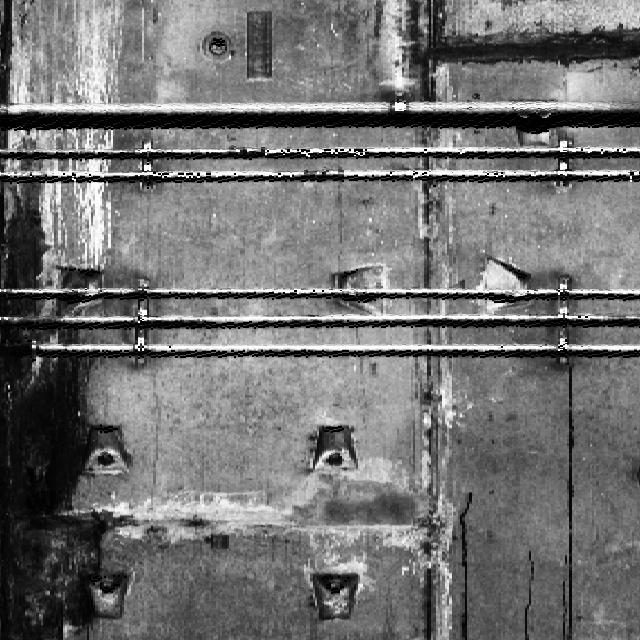leakage: (3, 126, 109, 639), (385, 0, 639, 93)
